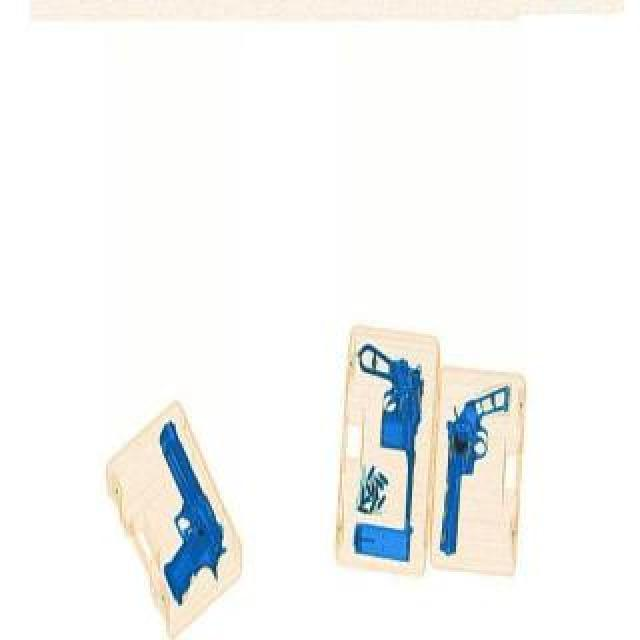gun: (100, 416, 252, 608), (346, 340, 430, 540), (438, 386, 514, 562)
